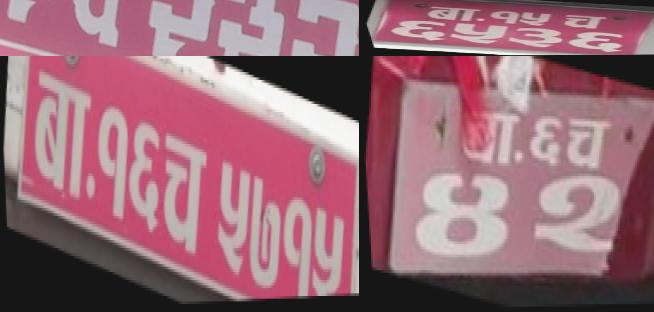1: (87, 88, 135, 226), (271, 185, 317, 301), (480, 9, 526, 25)
2: (520, 152, 626, 276), (118, 0, 230, 56), (264, 0, 359, 56)
3: (195, 0, 301, 56), (496, 26, 570, 50)
4: (405, 150, 519, 278)
5: (206, 150, 254, 285), (304, 199, 346, 300), (0, 0, 76, 36), (439, 22, 518, 45), (510, 10, 558, 27)
6: (120, 108, 168, 246), (522, 106, 567, 170), (378, 18, 455, 42), (558, 30, 632, 52)
7: (238, 168, 286, 302)
ba: (22, 56, 96, 210), (453, 95, 524, 178), (417, 5, 483, 23)
cha: (151, 122, 212, 266), (47, 0, 143, 54), (558, 111, 614, 180), (553, 14, 609, 30)
